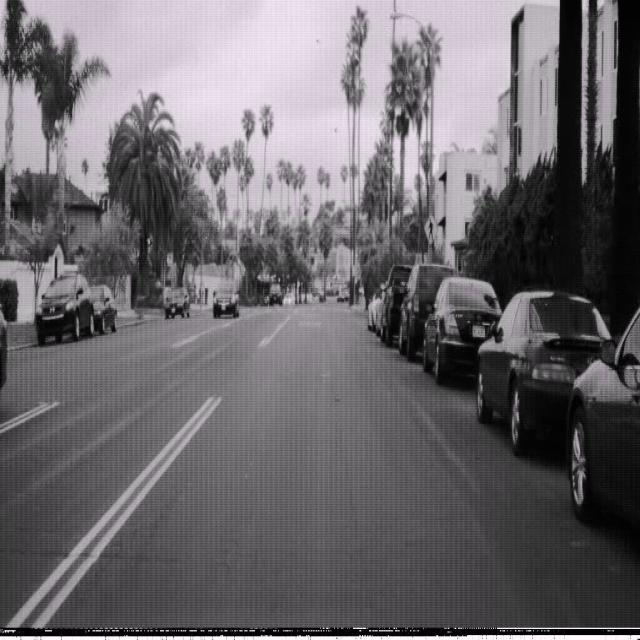pedestrianCrossing: (423, 211, 438, 245)
